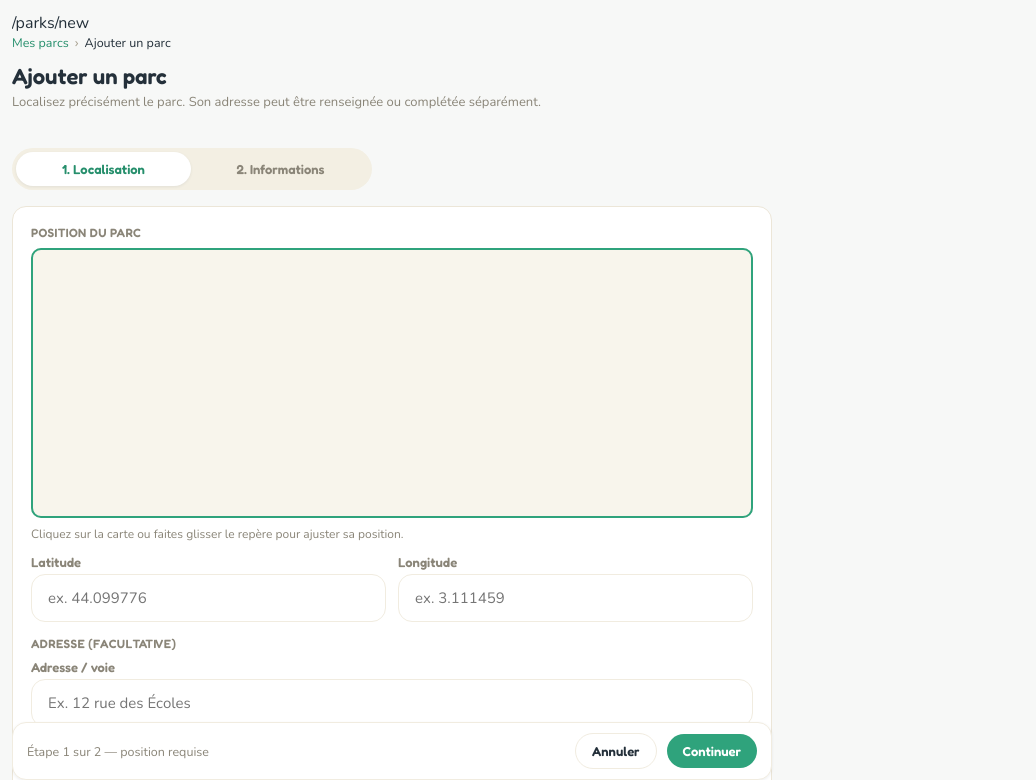
Test: ParkNew — /parks/new (Lot 3C.4) › manual coordinate entry lets the user continue; address stays optional
Type "44.100000" into the number field labelled "Latitude" at x=208, y=598, box [31,574,386,622]
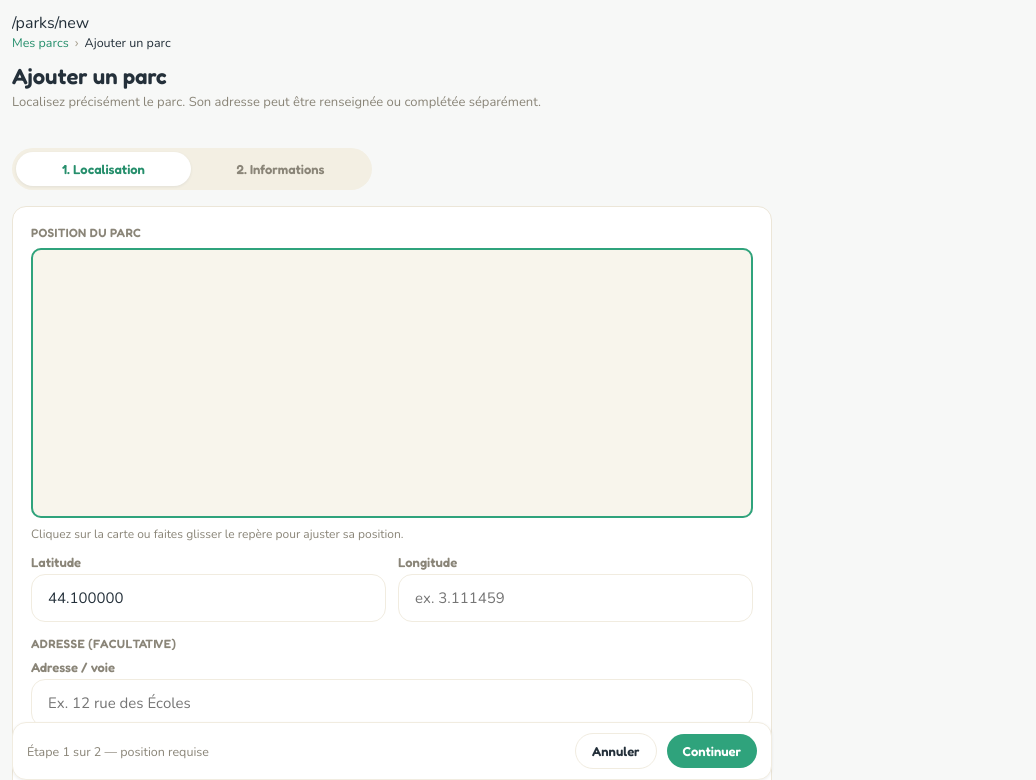
Type "3.070000" into the number field labelled "Longitude" at x=576, y=598, box [398,574,753,622]
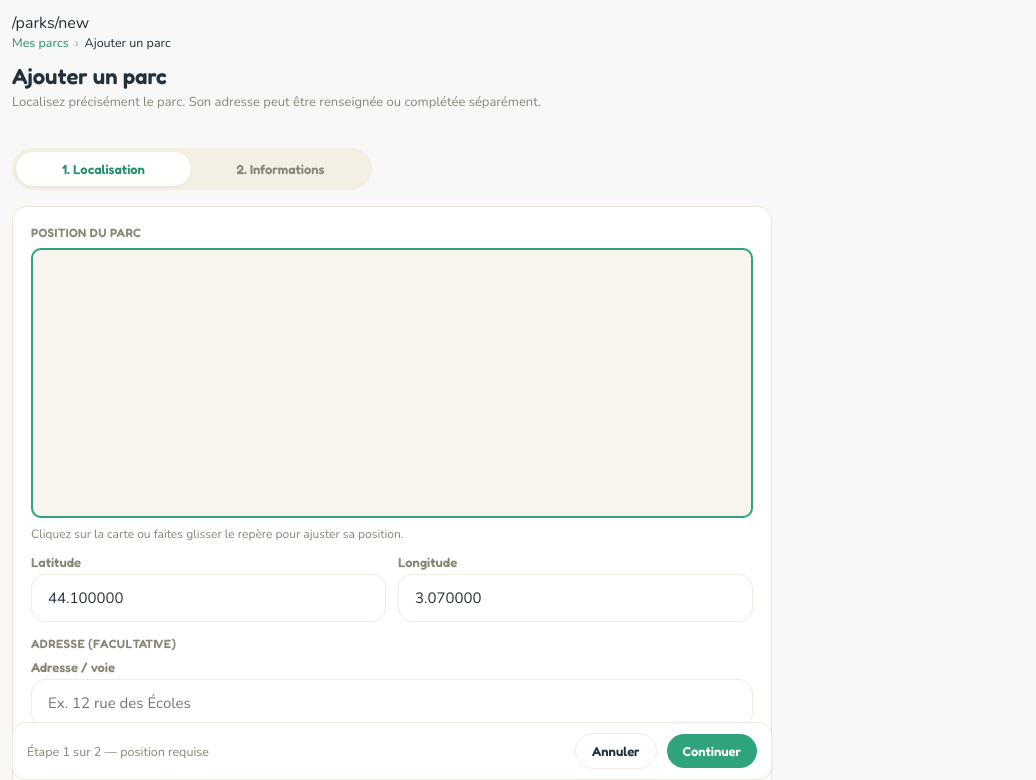
Click the button "Continuer" at x=712, y=751, box [667,734,757,768]
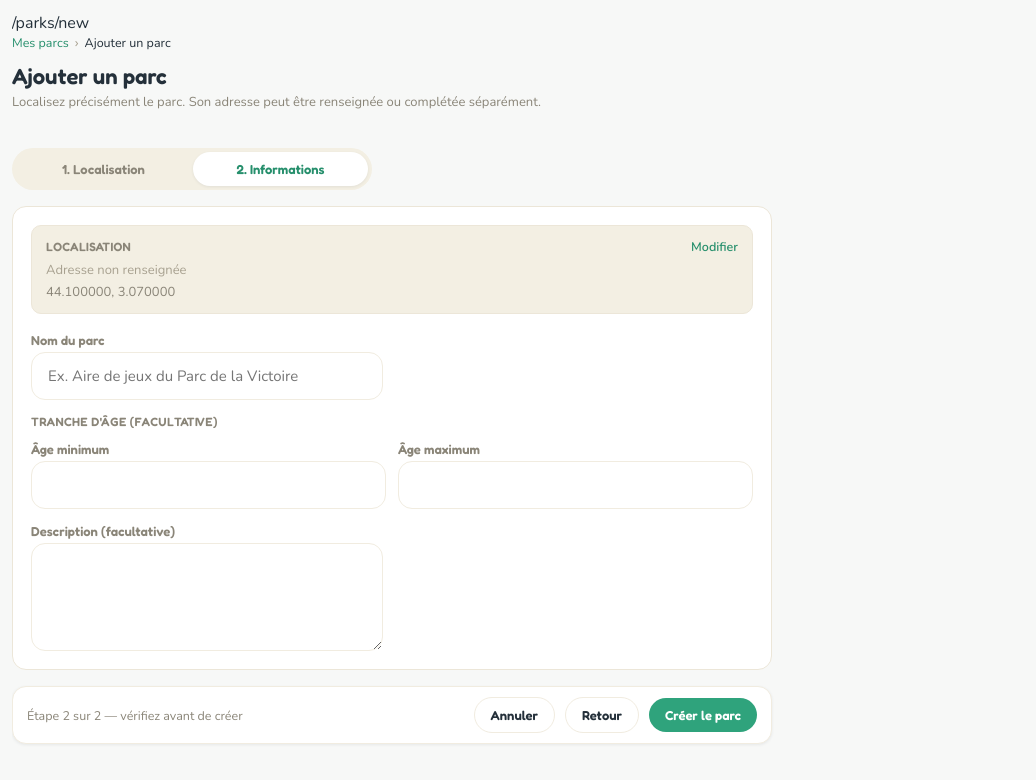
Expected: the field labelled "Nom du parc" is shown, [31,352,383,400]
Result: the text "Adresse non renseignée" is shown at [46,261,186,279]
